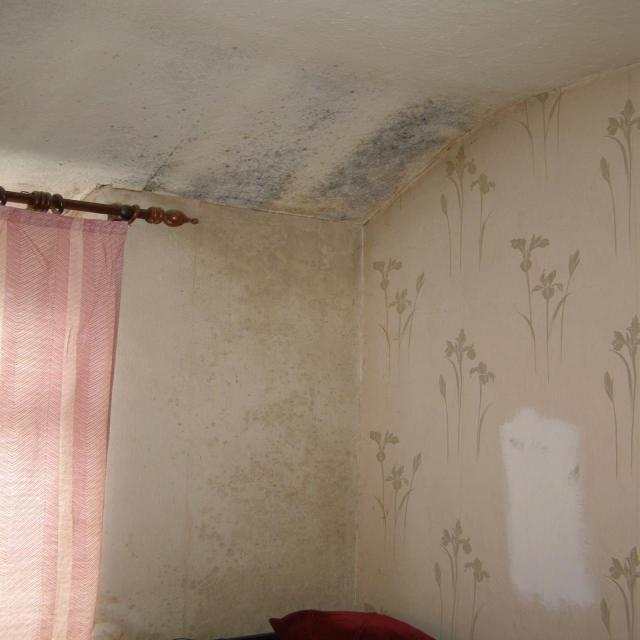damp: (87, 188, 361, 640), (203, 231, 365, 640), (53, 70, 464, 223)
damp_damage: (12, 18, 537, 226), (145, 71, 473, 219), (308, 100, 471, 221)
